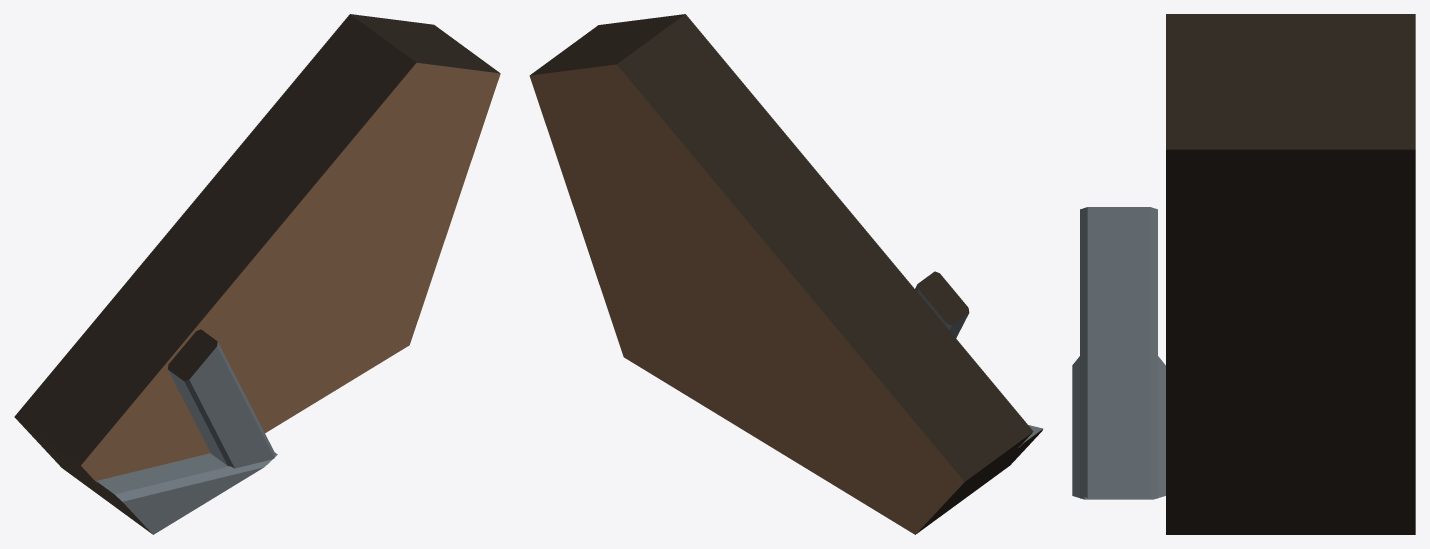
Rendered from SM_DoorShard_02_05.fbx.
3 renders of one model, left to right at view 1: azimuth 30°, elevation 25°; view 2: azimuth 150°, elevation 25°; view 3: azimuth 270°, elevation 25°, orthographic. The views are drawn at different scales.
Visible parts, largest first — view 1: SM_DoorShard_02_05; view 2: SM_DoorShard_02_05; view 3: SM_DoorShard_02_05.
Boxes of the visible parts, x1,y1,x2,y2 form: SM_DoorShard_02_05: (14,14,500,534); SM_DoorShard_02_05: (529,14,1042,534); SM_DoorShard_02_05: (1072,14,1415,534).
Size of the model in its own units: 58.28 by 22 by 50.88.
